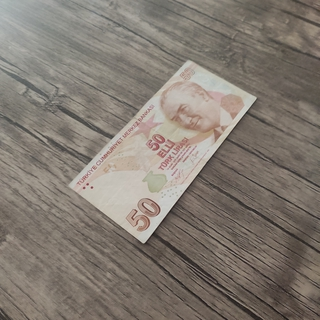50TLFront: (67, 59, 258, 243)
